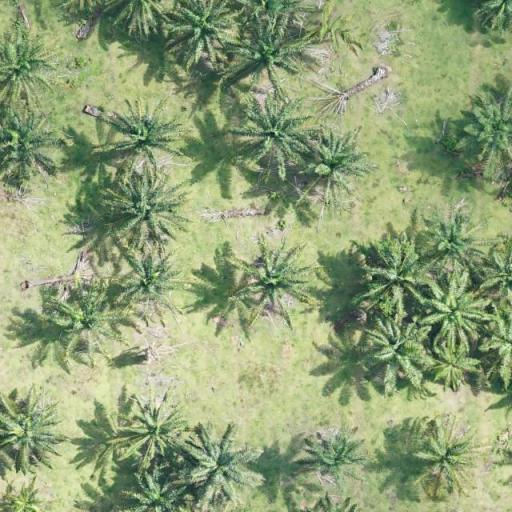Ganoderma: (417, 427, 473, 484), (242, 257, 302, 310), (60, 295, 112, 344), (124, 260, 175, 304)
